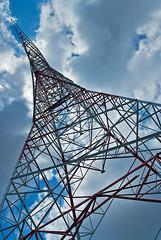power_tower: (9, 19, 161, 240)
